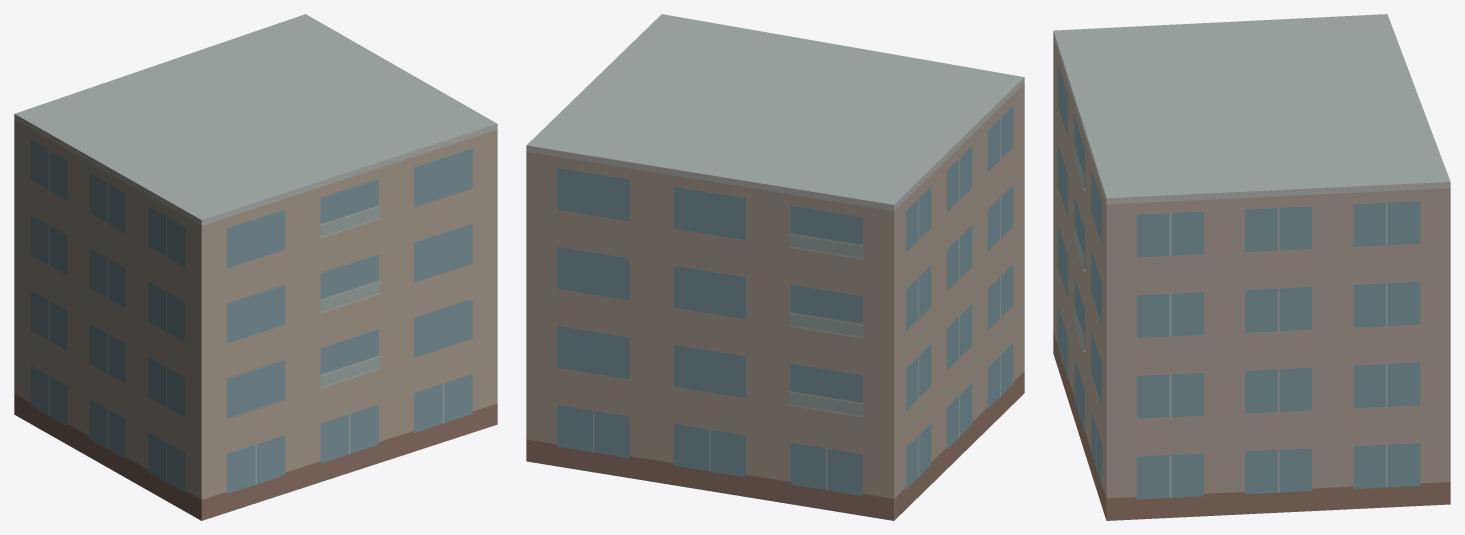
File: survey-upis-32990005.glb
3 views of the same model, side by side, from view 1: azimuth 30°, elevation 25°; view 2: azimuth 150°, elevation 25°; view 3: azimuth 270°, elevation 25° (orthographic). The views are drawn at different scales.
Visible parts, largest first — view 1: survey-upis-32990005.tmp; view 2: survey-upis-32990005.tmp; view 3: survey-upis-32990005.tmp.
Part boxes in pixels (<box>): survey-upis-32990005.tmp: <box>14,14,497,520</box>; survey-upis-32990005.tmp: <box>526,14,1024,520</box>; survey-upis-32990005.tmp: <box>1053,14,1450,520</box>.
Size of the model in its own units: 15.45 by 12.6 by 14.07.
